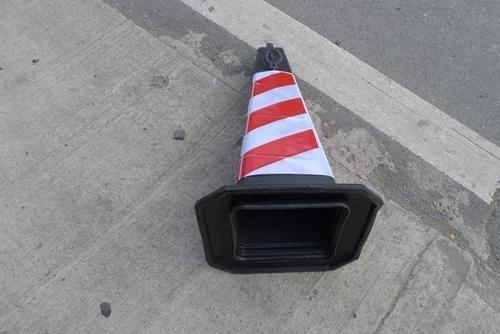cone_barrel: (211, 41, 360, 270)
